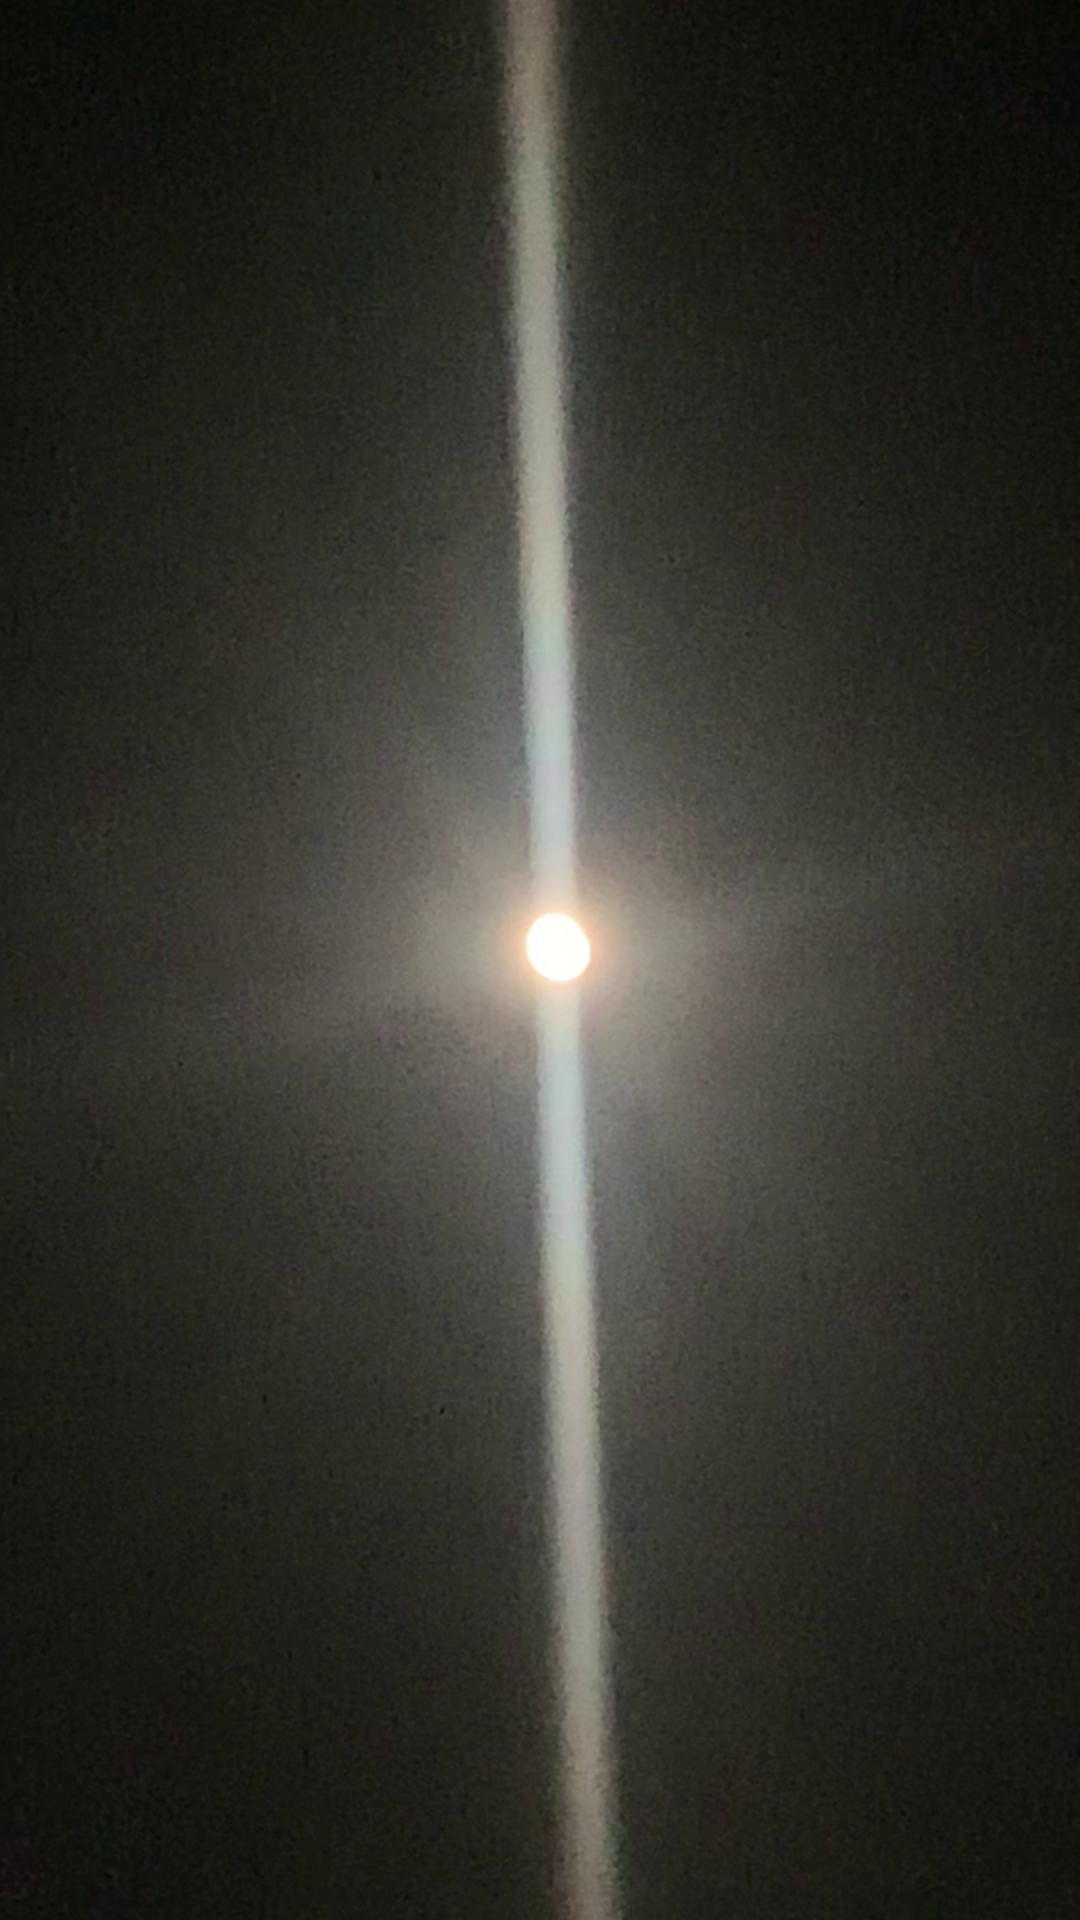moon: (502, 891, 625, 1005)
